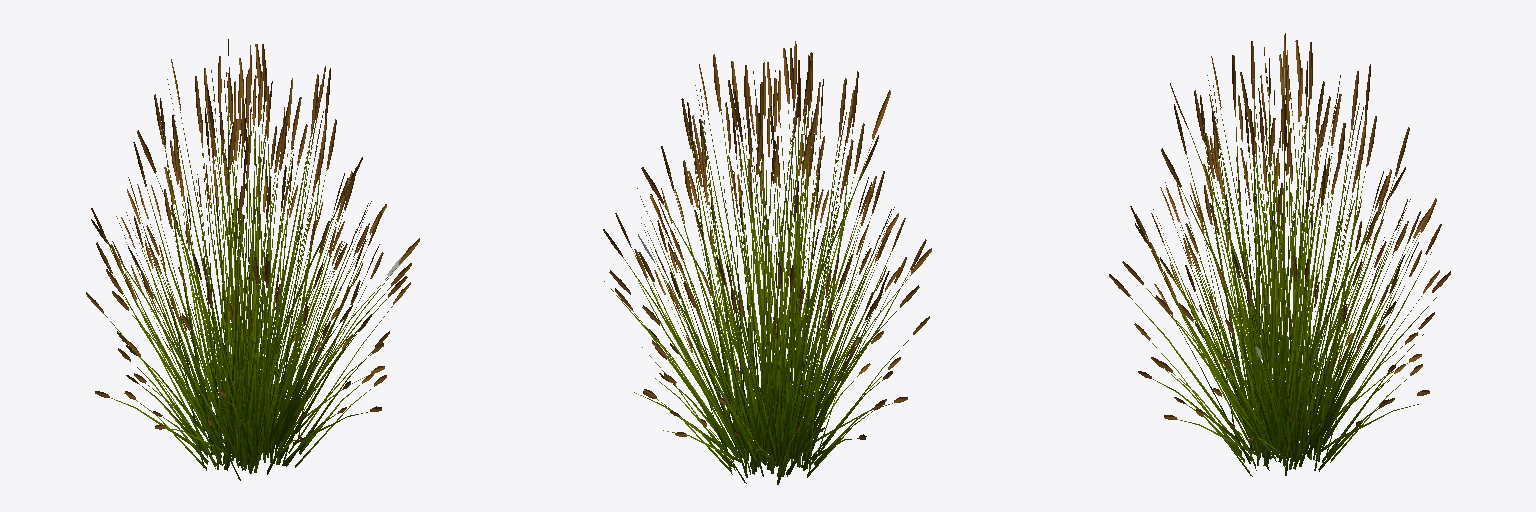
3 renders of one model, left to right at view 1: azimuth 30°, elevation 25°; view 2: azimuth 150°, elevation 25°; view 3: azimuth 270°, elevation 25°, orthographic.
Bounding box in the file's own units: 0.9233 × 1.24 × 0.9256.
Materials: 2 (1 with a texture image).